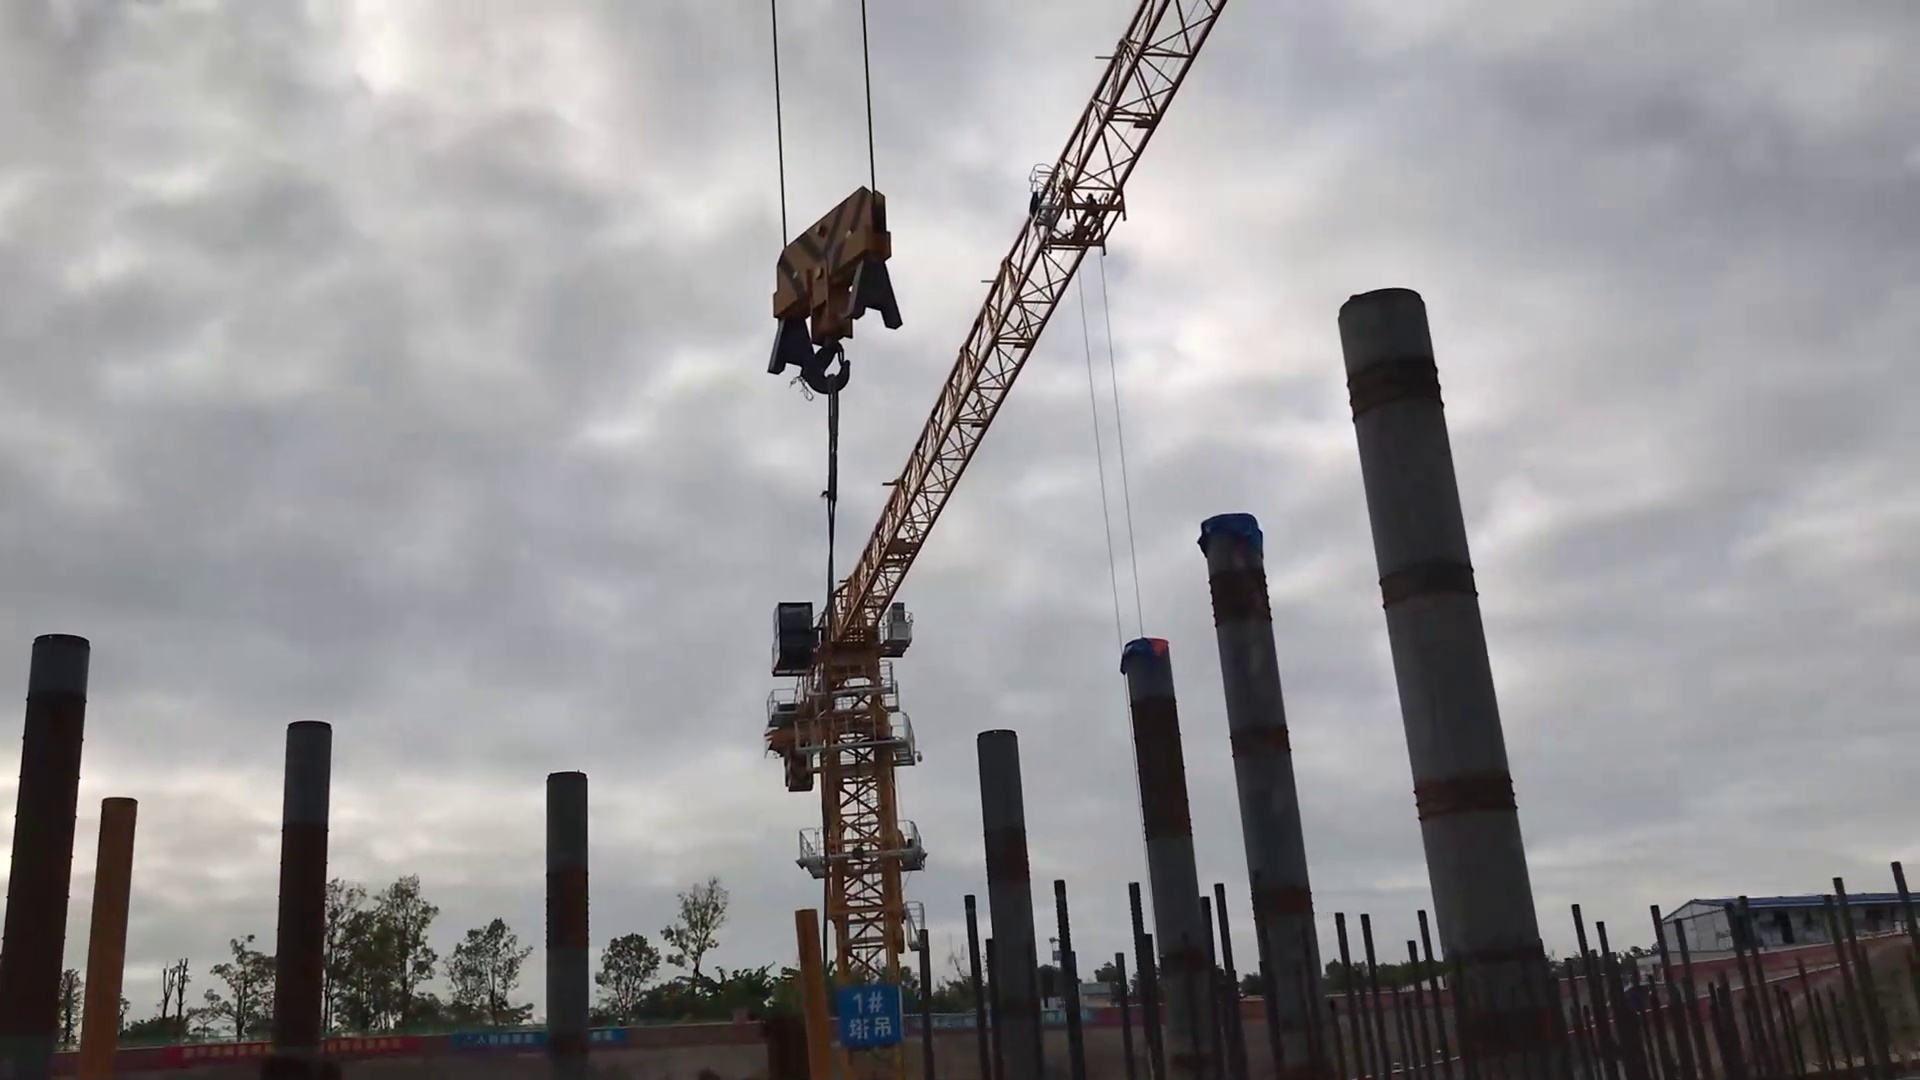hook: (760, 174, 916, 405)
